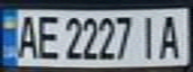2: (60, 12, 84, 61), (78, 12, 100, 62), (97, 12, 118, 61)
7: (115, 12, 136, 61)
A: (154, 11, 187, 60), (12, 11, 42, 60)
E: (33, 11, 60, 61)
I: (136, 11, 163, 61)
